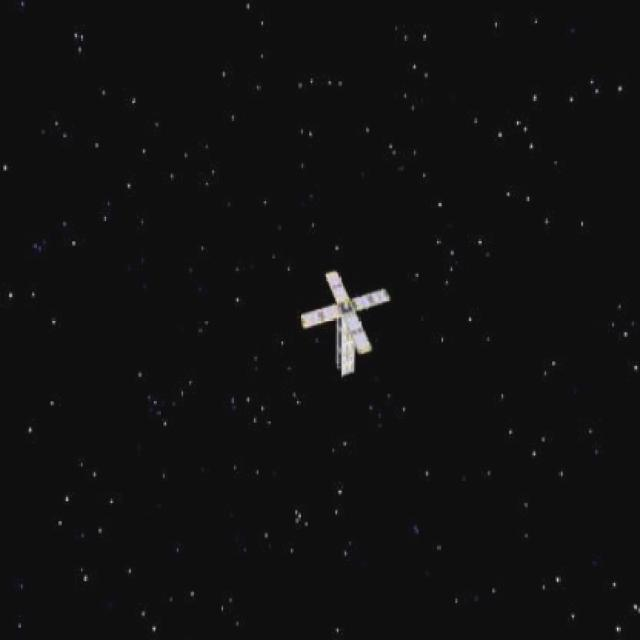satellite: (288, 263, 402, 381)
